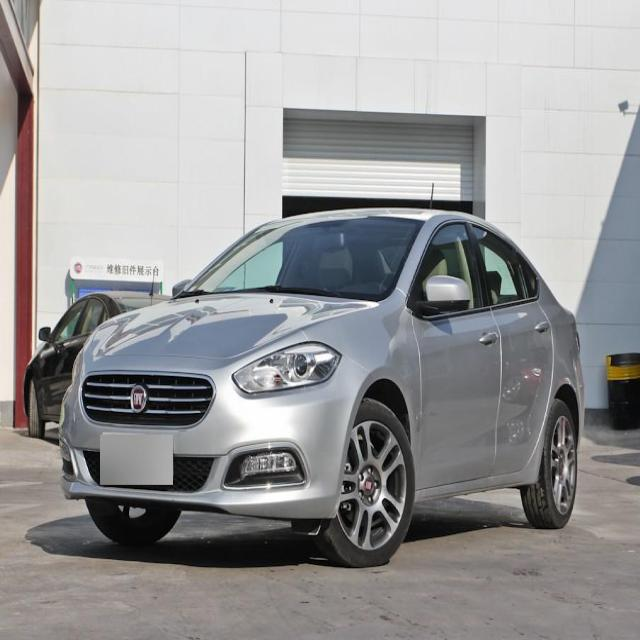door: (472, 218, 558, 482)
front_bumper: (58, 374, 346, 522)
front_glass: (184, 220, 426, 302)
front_left_side_door: (404, 214, 504, 492)
front_left_side_light: (229, 339, 343, 396)
front_left_side_mirror: (419, 270, 475, 323)
front_right_side_light: (70, 346, 86, 391)
wheel: (320, 393, 416, 569), (520, 403, 578, 528), (88, 500, 184, 546)
